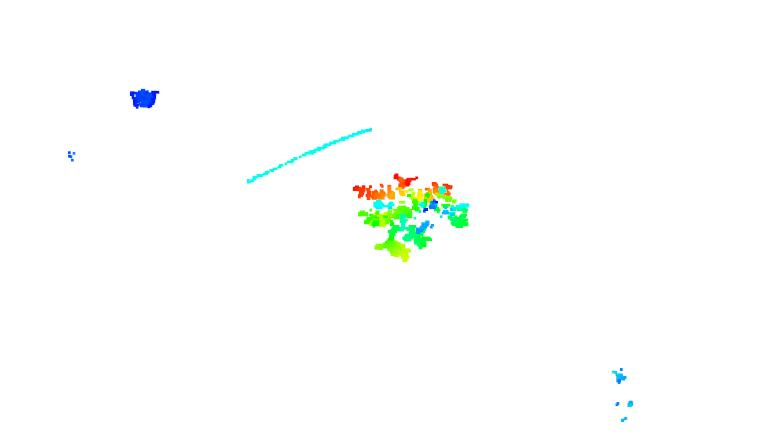chickpea: (352, 174, 430, 267), (387, 162, 472, 232)
